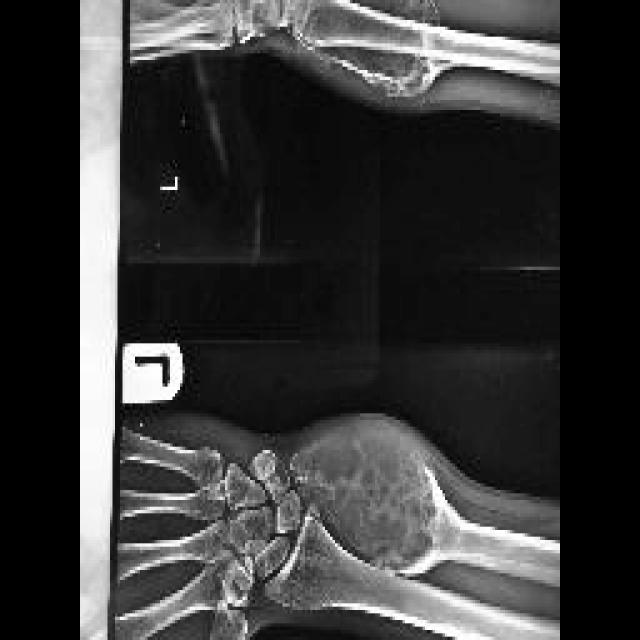bone-cancer: (290, 413, 462, 569), (285, 0, 450, 98)
